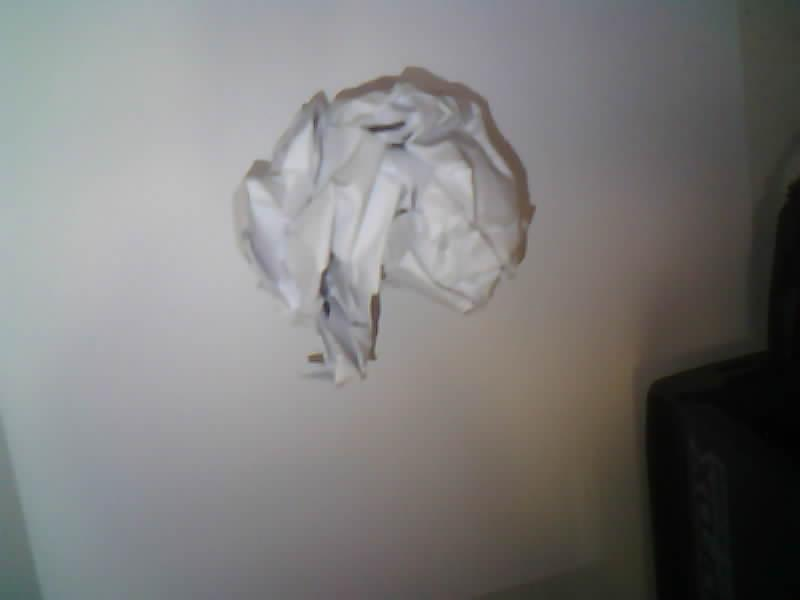biodegradable: (235, 70, 532, 383)
